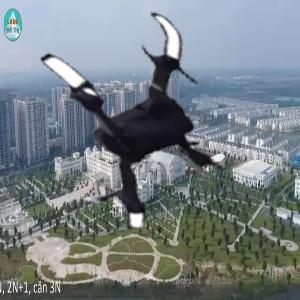drone: (17, 9, 259, 251)
